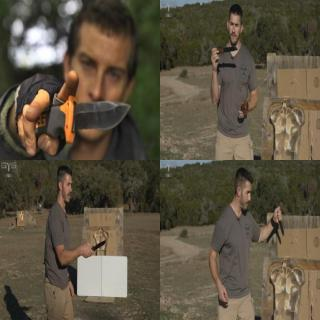knife: (25, 94, 136, 142), (210, 42, 240, 62), (81, 237, 108, 259), (273, 203, 285, 240)
